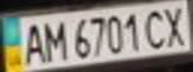0: (106, 11, 127, 54)
1: (121, 9, 145, 52)
6: (69, 15, 90, 60)
7: (87, 12, 109, 57)
A: (18, 19, 48, 65)
C: (139, 6, 172, 49)
M: (39, 17, 69, 63)
X: (160, 2, 193, 47)
